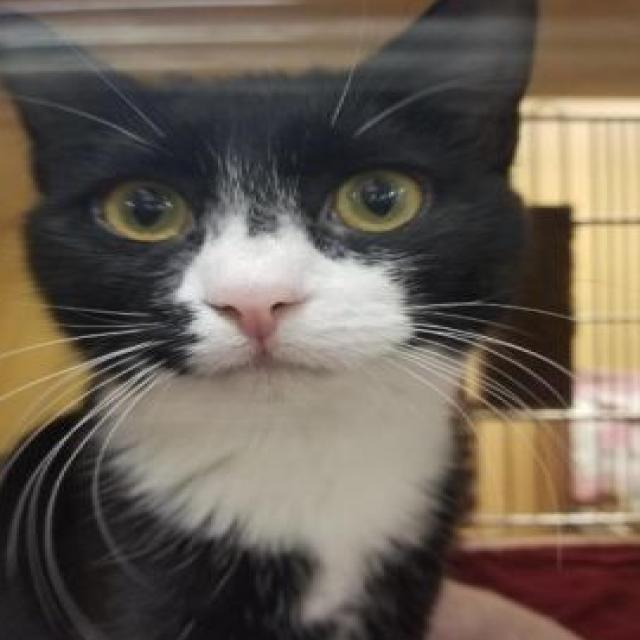Tuxedo: (0, 0, 552, 640)
